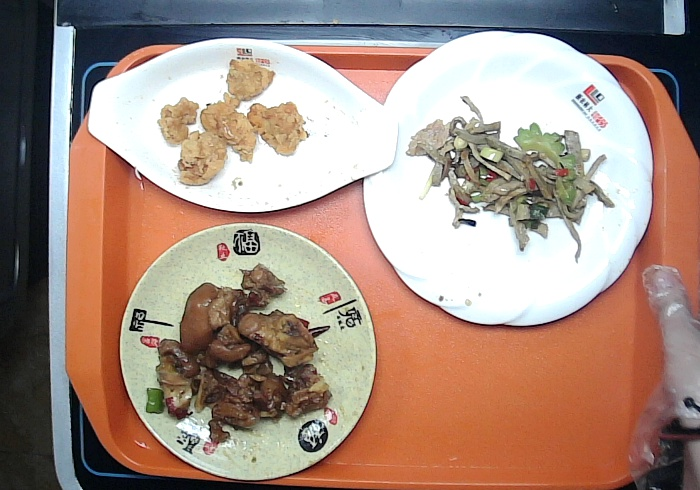NLDX-Bai_Zhe_Yuan_Pan: (363, 28, 655, 327)
NLDX-Fu_Zi_Yuan_Pan: (118, 222, 377, 483)
NLDX-Yu_Pan: (86, 38, 399, 212)
